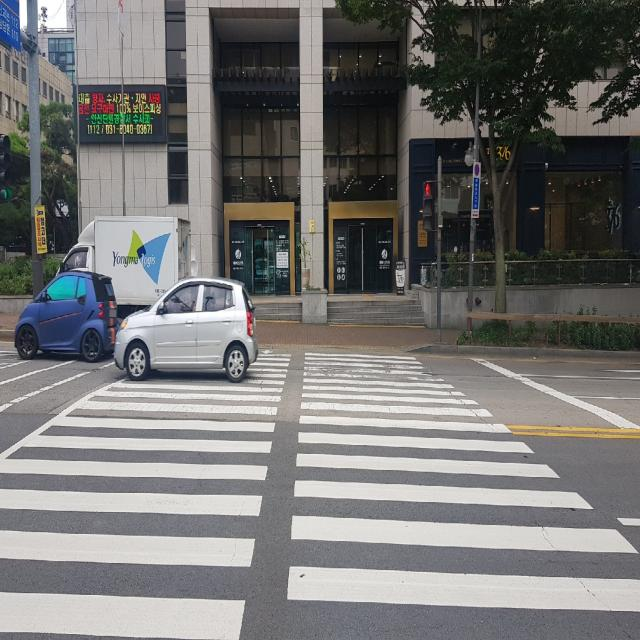빨간불: (422, 181, 432, 231)
횡단보도: (0, 349, 640, 638)
